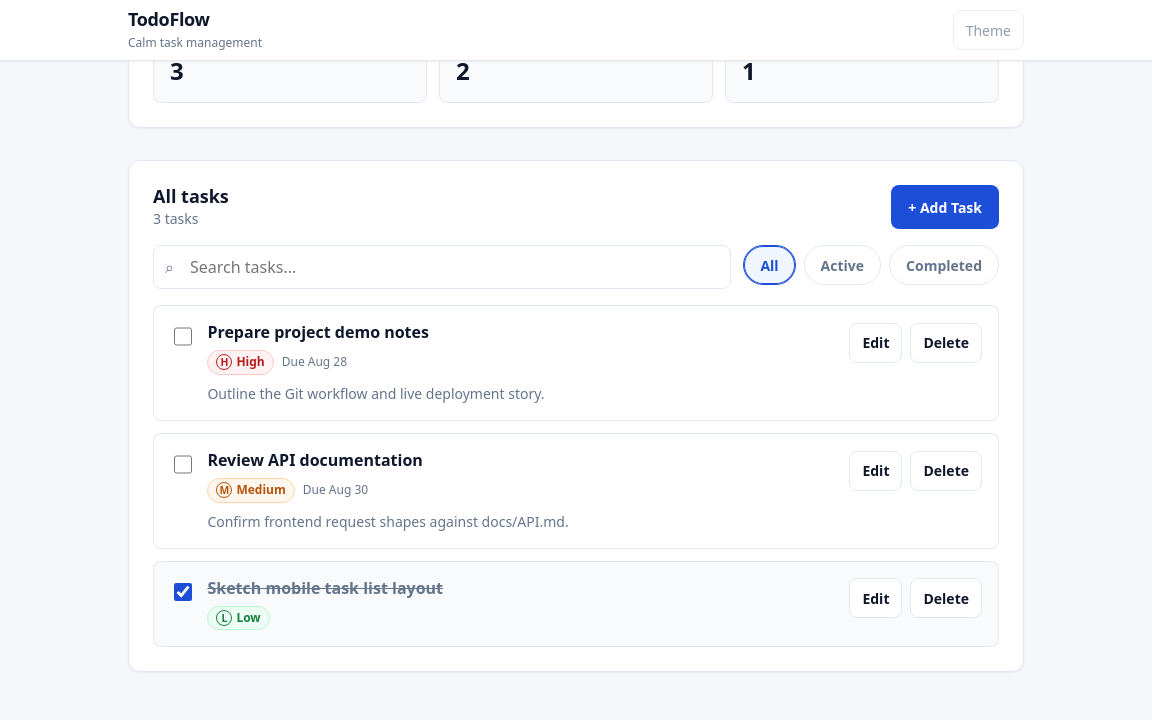
Test: TodoFlow App › updates a task through the API and preserves completion state
(page scrolled)
expect the text "Prepare project demo notes" is shown: met, box [207,321,429,343]
expect the checkbox labelled "Sketch mobile task list layout" is checked: met, box [174,583,192,601]
Click the button with aria-label "Edit task “Sketch mobile task list layout”": (876, 598) [849,578,902,618]
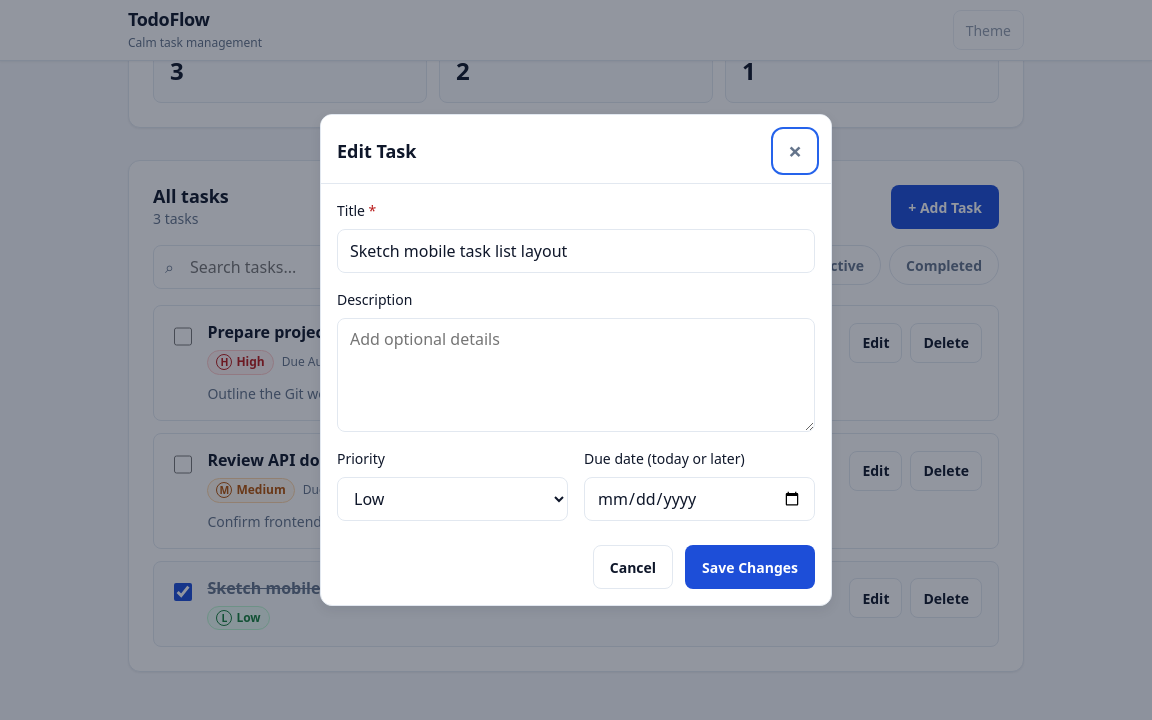
expect the field labelled "Title *" holds "Sketch mobile task list layout": met
Replace the text in the field labelled "Title *" with "Refine mobile task list layout": (576, 251) [337,229,815,273]
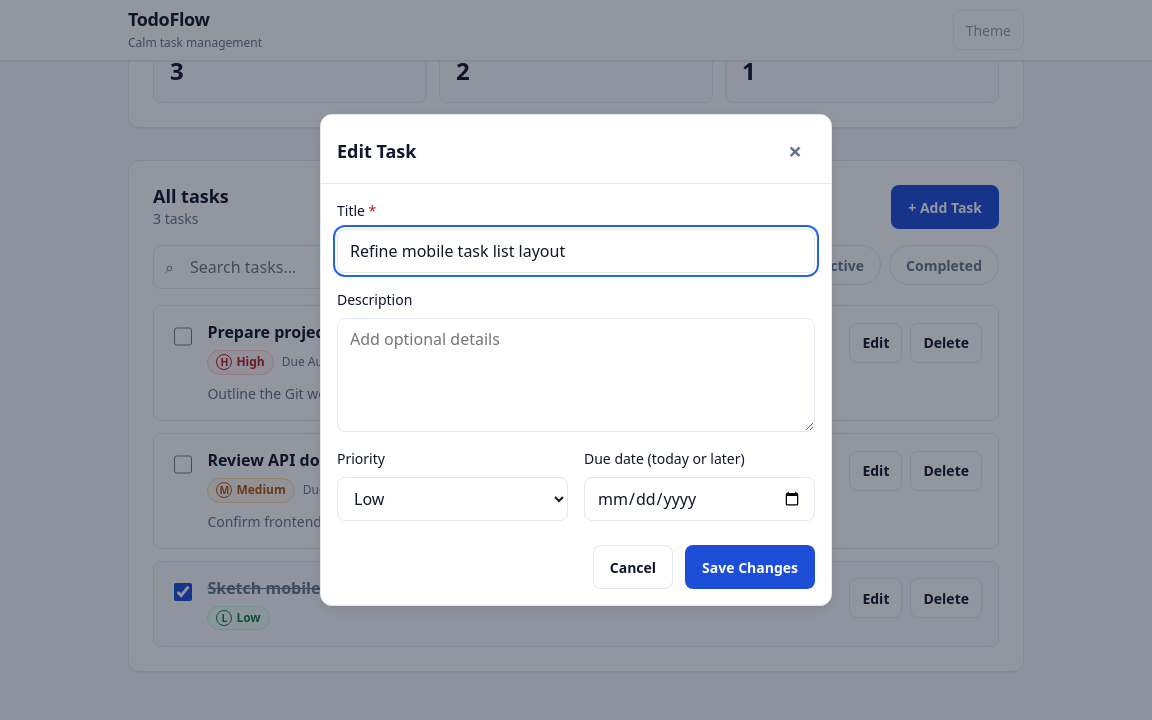
Click the button "Save Changes": (750, 567) [685,545,815,589]
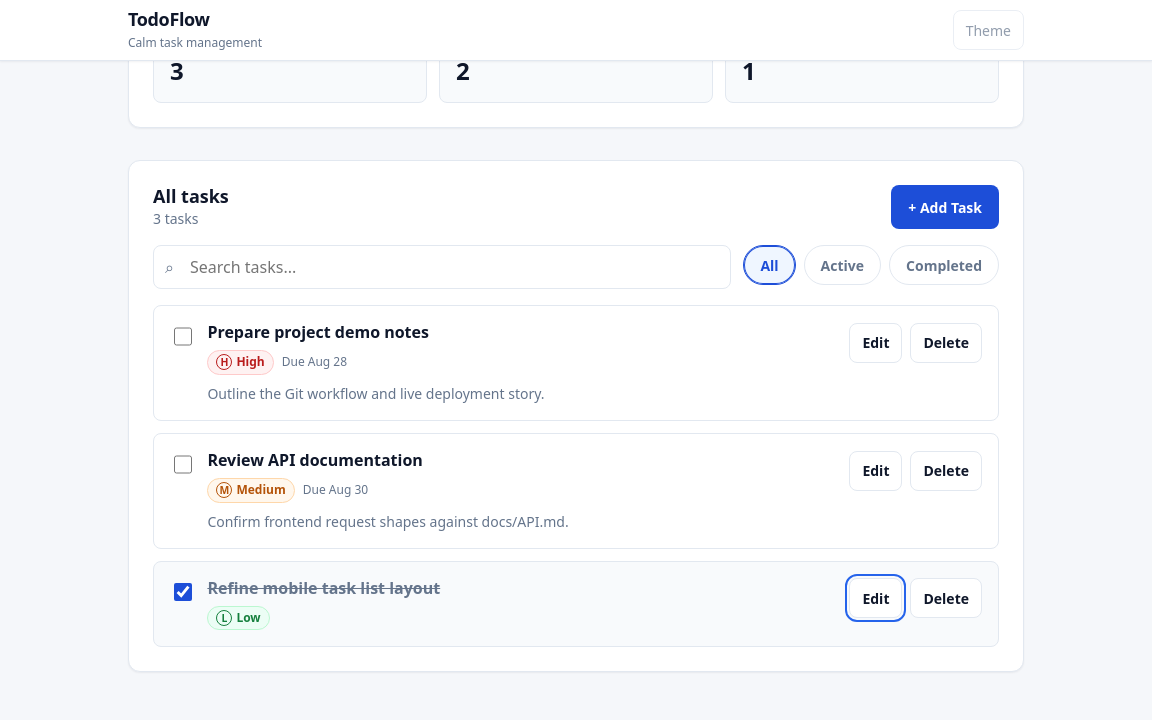
expect the heading "Edit Task" is gone: met
expect the text "Refine mobile task list layout" is shown: met, box [207,577,440,599]
expect the checkbox labelled "Refine mobile task list layout" is shown: met, box [174,583,192,601]
